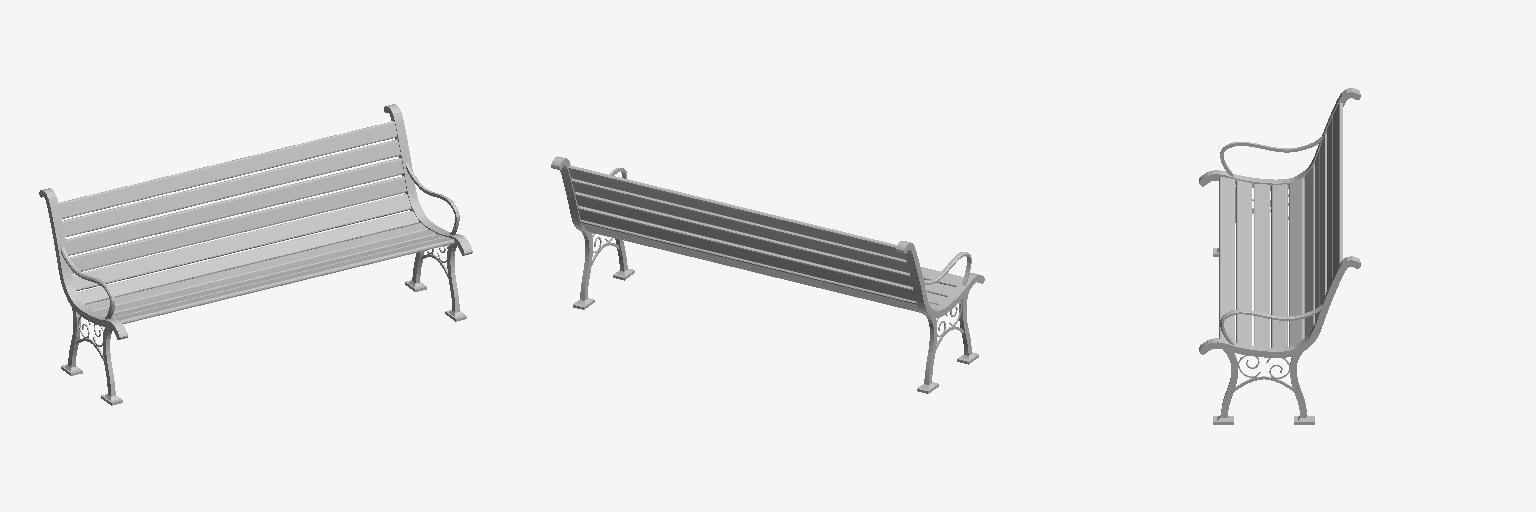
Rendered from SM_Bank.obj.
The picture shows the model from 3 angles: view 1: azimuth 30°, elevation 25°; view 2: azimuth 150°, elevation 25°; view 3: azimuth 270°, elevation 25°; orthographic projection.
Visible parts, largest first — view 1: SM_Bank_Cube.065; view 2: SM_Bank_Cube.065; view 3: SM_Bank_Cube.065.
Part boxes in pixels (x1,y1,x2,y2): SM_Bank_Cube.065: (39, 104, 472, 405); SM_Bank_Cube.065: (551, 156, 984, 393); SM_Bank_Cube.065: (1199, 88, 1360, 424).
Size of the model in its own units: 1.94 by 0.8526 by 0.7599.